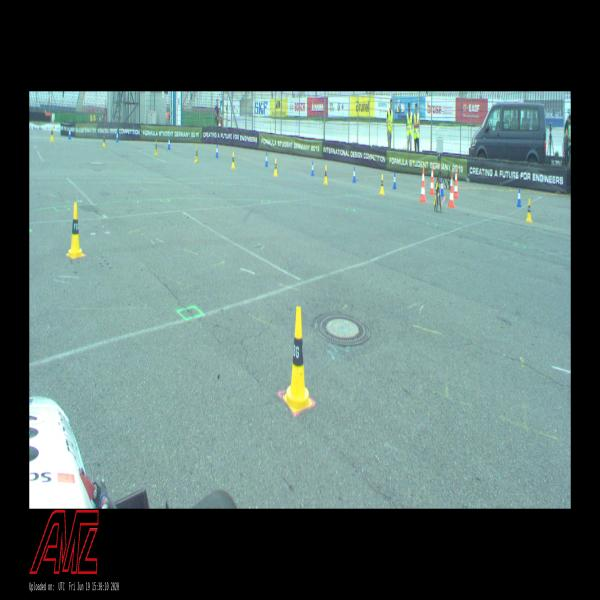blue_cone: (516, 187, 522, 207), (440, 178, 444, 196), (352, 166, 356, 183), (392, 172, 396, 189), (68, 126, 72, 139), (167, 136, 171, 149), (265, 152, 268, 167), (311, 161, 314, 176), (216, 144, 219, 158), (116, 130, 119, 142)
large_orange_cone: (419, 167, 426, 203), (448, 172, 455, 208), (430, 165, 434, 195), (454, 168, 458, 198)
yellow_cone: (283, 307, 312, 412), (66, 203, 84, 258), (526, 199, 532, 222), (380, 174, 384, 195), (434, 183, 438, 204), (194, 146, 199, 162), (231, 152, 236, 168), (324, 165, 328, 185), (274, 159, 278, 176), (50, 126, 54, 141), (154, 140, 158, 155), (102, 134, 106, 147)
